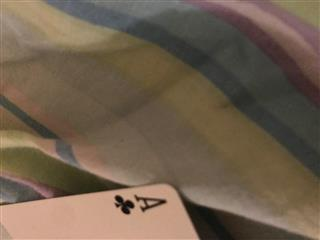AceOfClubs: (1, 182, 201, 240)
